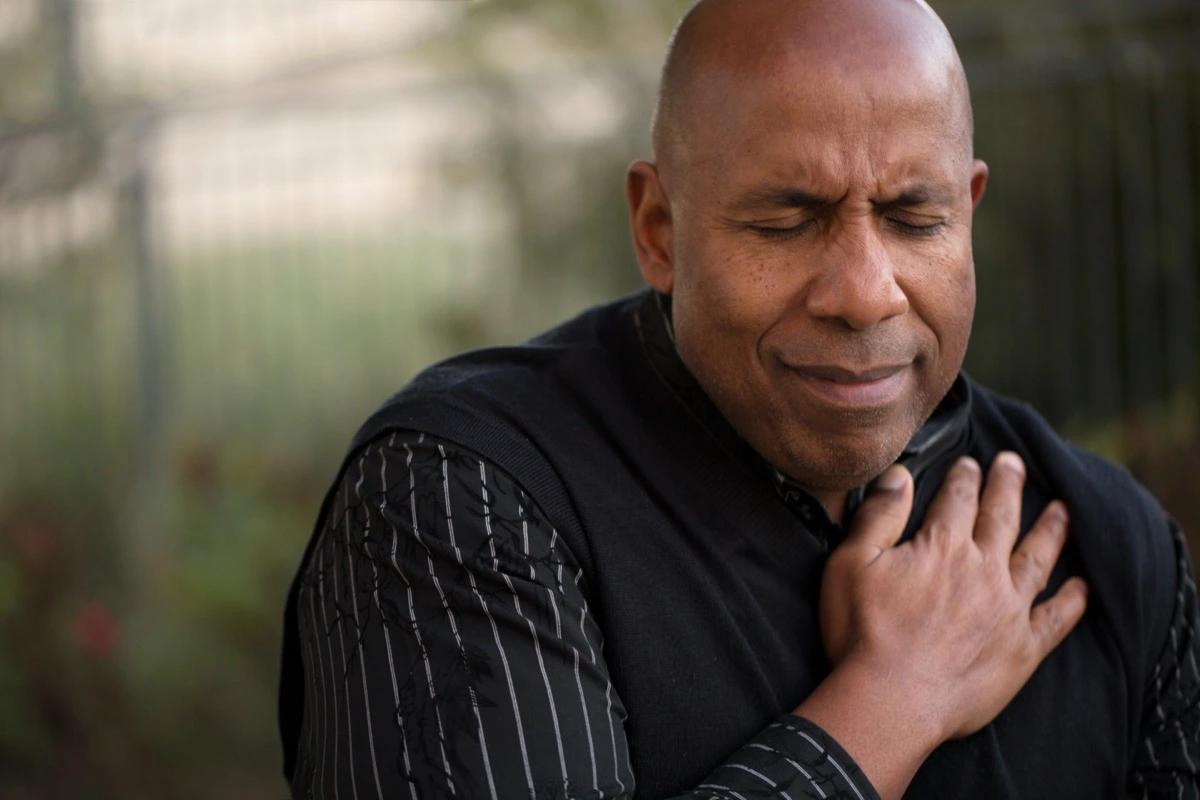pain: (717, 154, 963, 258)
